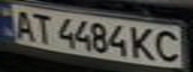4: (106, 23, 130, 57), (72, 18, 93, 52), (54, 16, 75, 48)
8: (90, 20, 109, 55)
A: (9, 7, 39, 40)
C: (151, 27, 187, 64)
K: (127, 25, 160, 61)
T: (30, 11, 57, 44)
